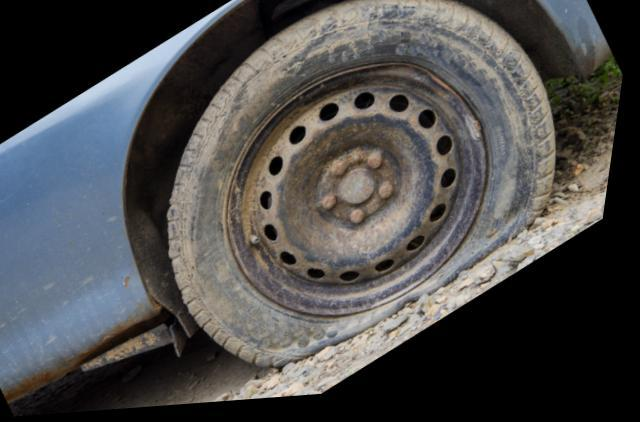tire flat: (176, 0, 564, 372)
